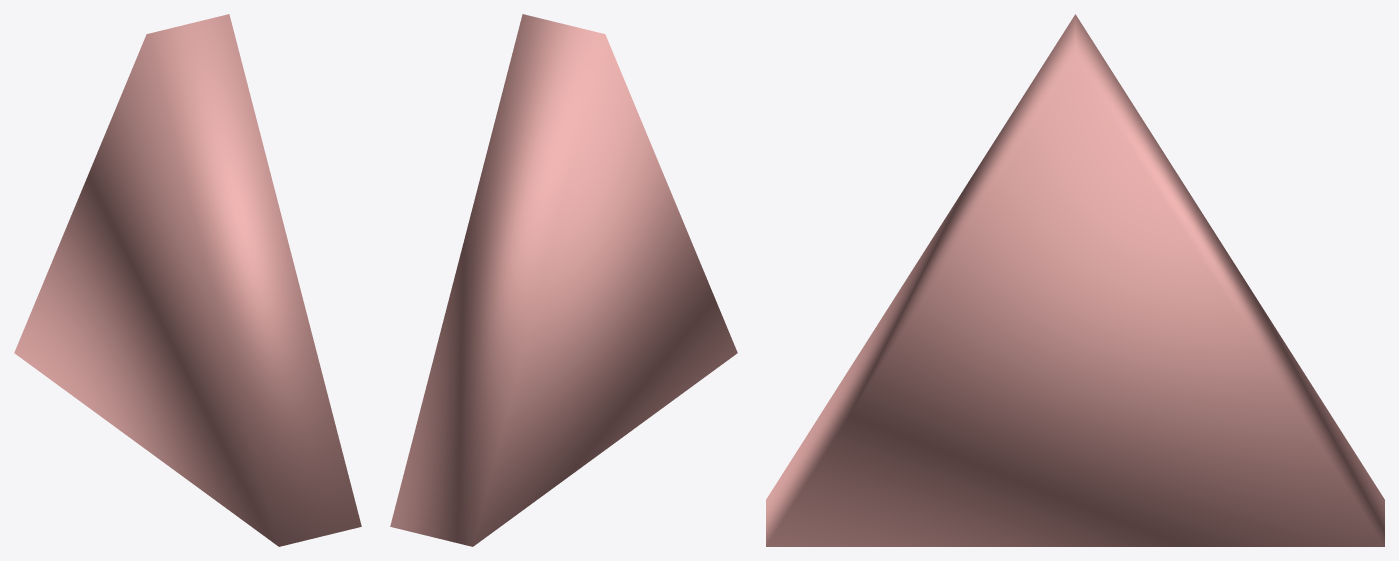
The model's file is shape-triangle-pink.glb.
The picture shows the model from 3 angles, left to right: view 1: azimuth 30°, elevation 25°; view 2: azimuth 150°, elevation 25°; view 3: azimuth 270°, elevation 25°; orthographic projection. The views are drawn at different scales.
Visible parts, largest first — view 1: solid triangle; view 2: solid triangle; view 3: solid triangle.
Part boxes in pixels (x1,y1,x2,y2): solid triangle: (14, 14, 361, 546); solid triangle: (390, 14, 737, 546); solid triangle: (766, 14, 1384, 546).
Size of the model in its own units: 0.25 by 1.2 by 1.39.
